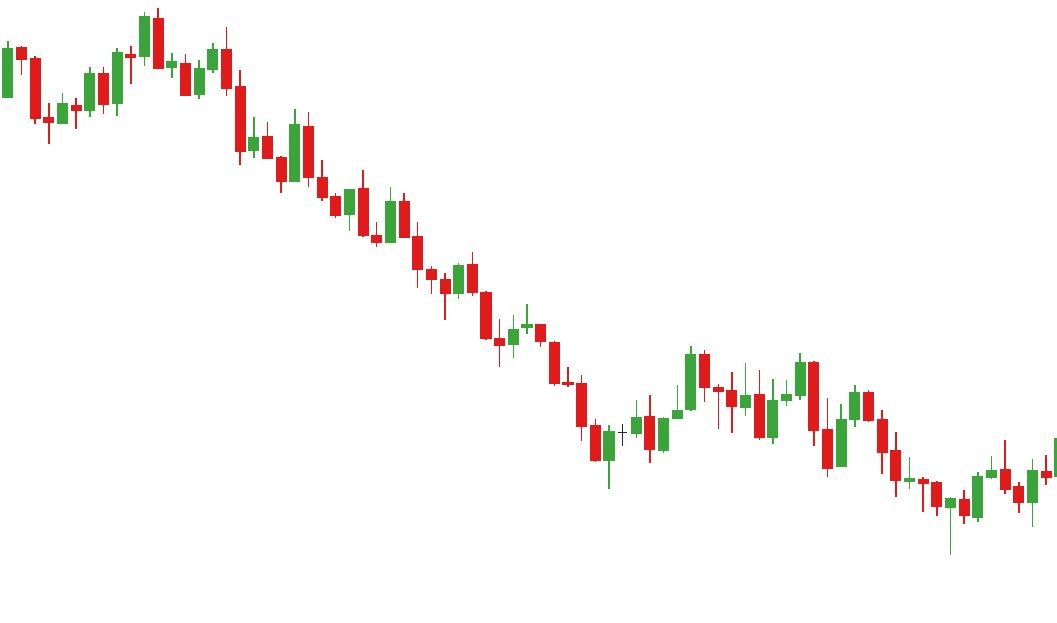sell: (1, 10, 164, 92), (563, 347, 712, 432)
